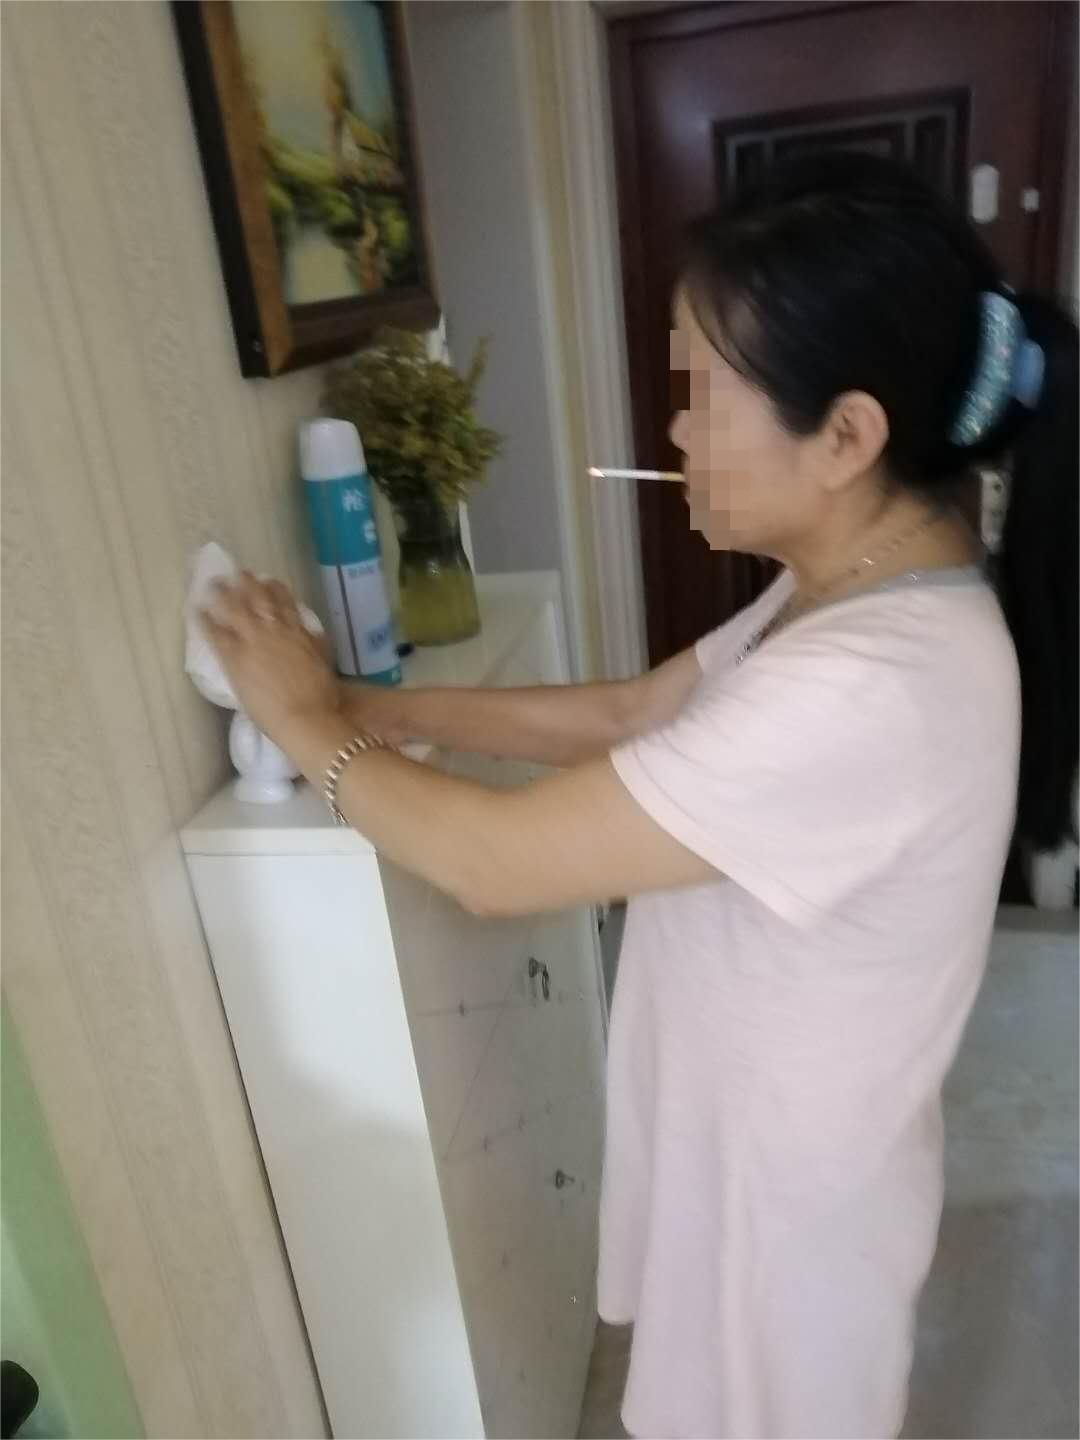smoke: (582, 461, 687, 488)
